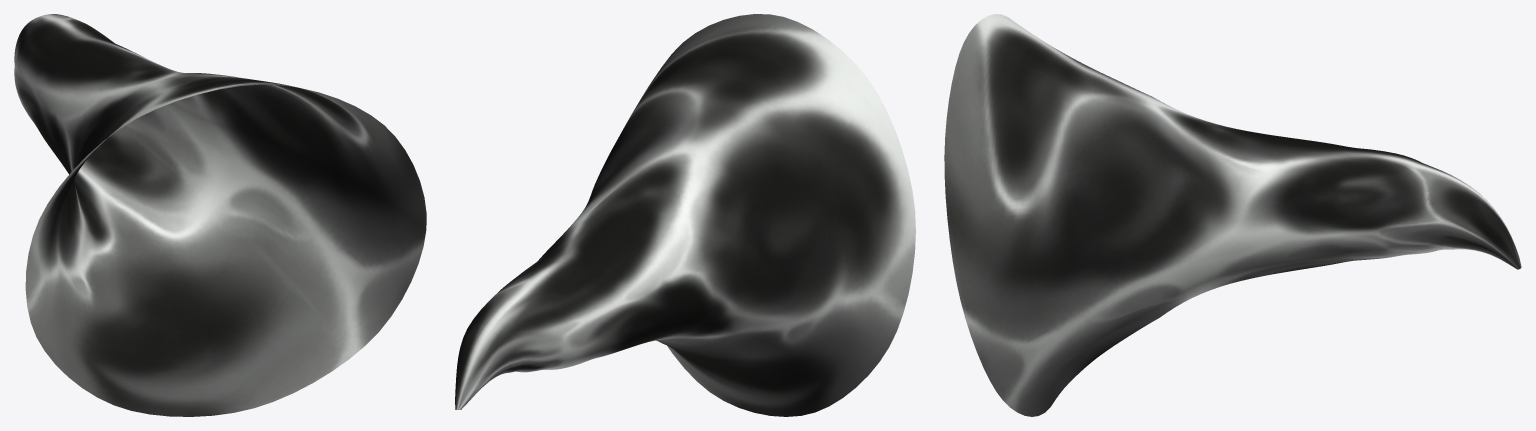
File: L34_kpf_chouka_suidao005.FBX
3 renders of one model, left to right at view 1: azimuth 30°, elevation 25°; view 2: azimuth 150°, elevation 25°; view 3: azimuth 270°, elevation 25°, orthographic. The views are drawn at different scales.
Parts seen in each view (by area): view 1: L34_kpf_chouka_suidao005; view 2: L34_kpf_chouka_suidao005; view 3: L34_kpf_chouka_suidao005.
Boxes of the visible parts, <box> form: L34_kpf_chouka_suidao005: <box>14,14,426,416</box>; L34_kpf_chouka_suidao005: <box>455,14,915,416</box>; L34_kpf_chouka_suidao005: <box>944,14,1521,416</box>.
Bounding box in the file's own units: 959 × 968 × 1414.
